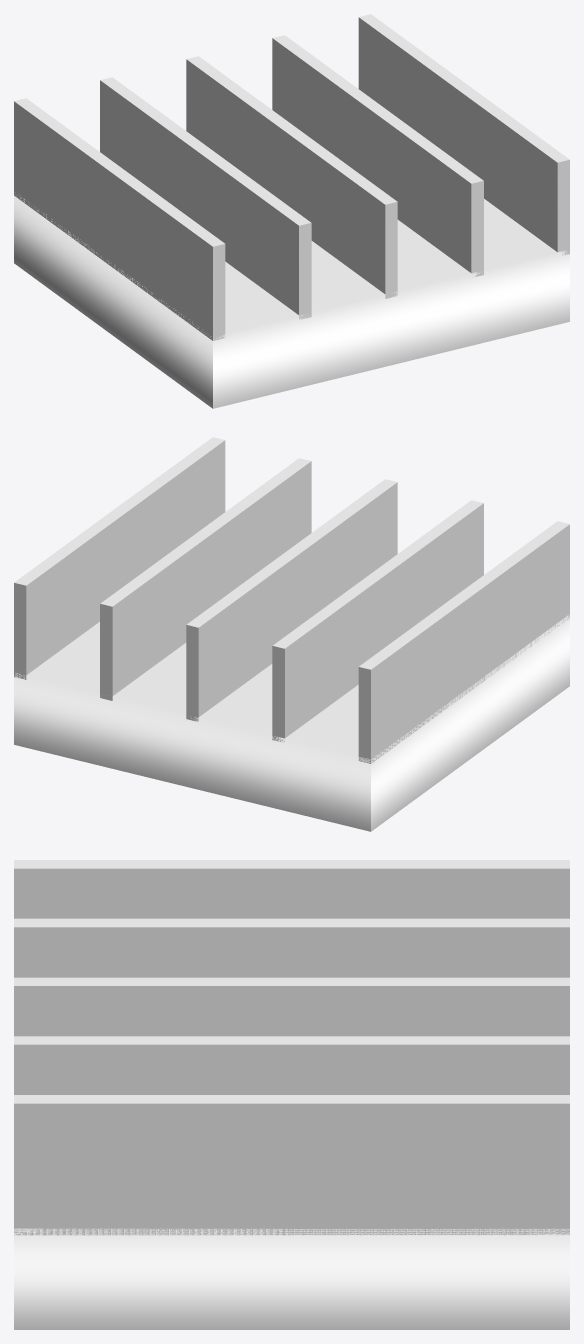
File: Wheat01.fbx
The picture shows the model from 3 angles, top to bottom: view 1: azimuth 30°, elevation 25°; view 2: azimuth 150°, elevation 25°; view 3: azimuth 270°, elevation 25°; orthographic projection. The views are drawn at different scales.
Parts seen in each view (by area): view 1: Wheat2; view 2: Wheat2; view 3: Wheat2.
Part boxes in pixels (x1,y1,x2,y2): Wheat2: (14, 14, 569, 408); Wheat2: (14, 437, 569, 831); Wheat2: (14, 860, 569, 1329).
Size of the model in its own units: 225 by 97.56 by 217.
1 material, 1 textured.
